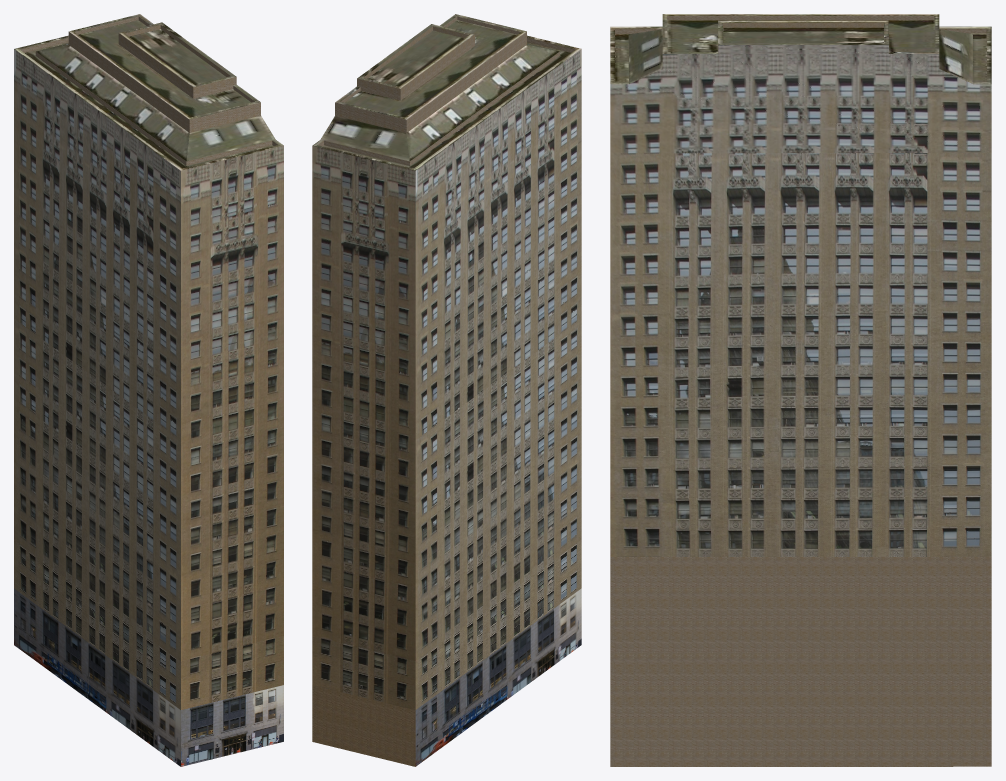
File: Unbenannt.dae
3 views of the same model, side by side, from view 1: azimuth 30°, elevation 25°; view 2: azimuth 150°, elevation 25°; view 3: azimuth 270°, elevation 25° (orthographic). The views are drawn at different scales.
Visible parts, largest first — view 1: SketchUp (×13); view 2: SketchUp (×14); view 3: SketchUp (×10).
Boxes of the visible parts, x1,y1,x2,y2 form: SketchUp (×13): [14, 14, 283, 766]; SketchUp (×14): [312, 14, 581, 766]; SketchUp (×10): [610, 14, 991, 766].
Bounding box in the file's own units: 589 × 1642 × 3428.
Materials: 20 (19 with a texture image).
